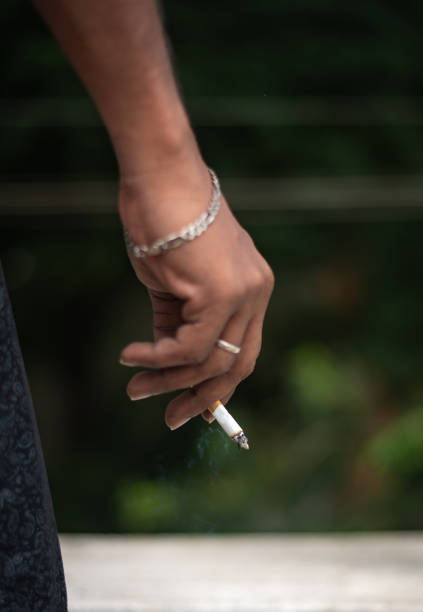cigarette: (208, 402, 253, 452)
